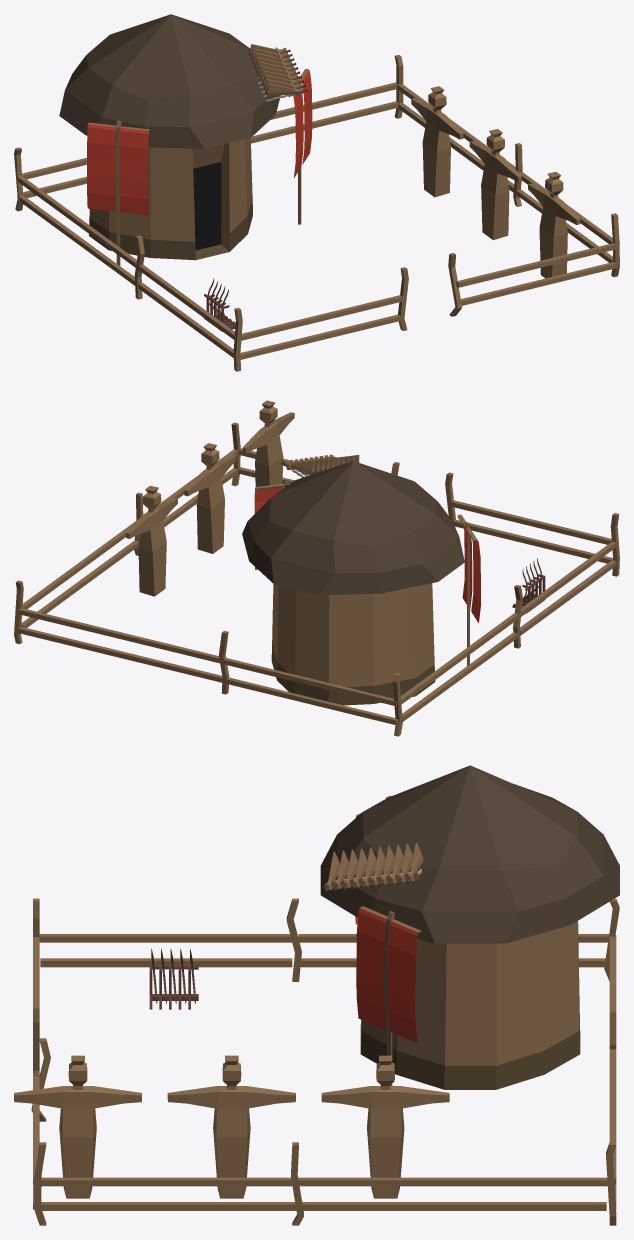
The model's file is FBX - Barracks(Human).fbx.
The picture shows the model from 3 angles, top to bottom: view 1: azimuth 30°, elevation 25°; view 2: azimuth 150°, elevation 25°; view 3: azimuth 270°, elevation 25°; orthographic projection. The views are drawn at different scales.
Visible parts, largest first — view 1: Hut, Target.R, Flag.001, Cube.005, Flag, Cube.031, Cube.030, Cube.028, Cube.029, Cube.014, Cube.013, Cube.026 (+9 smaller); view 2: Hut, Target.R, Cube.026, Cube.027, Cube.025, Cube.024, Cube.031, Cube.014, Cube.030, Cube.013, Flag.001, Cube.021 (+7 smaller); view 3: Hut, Target.R, Flag, Cube.005, Cube.020, Cube.021, Cube.019, Cube.017, Cube.018, Cube.016, Cube.004, Cube.027 (+6 smaller).
Part boxes in pixels (box(x1,y1,x2,y2)): Hut: box(59, 14, 280, 260); Target.R: box(411, 86, 580, 278); Flag.001: box(87, 124, 148, 215); Cube.005: box(249, 44, 307, 101); Flag: box(292, 70, 312, 178); Cube.031: box(238, 295, 402, 341); Cube.030: box(238, 314, 402, 359); Cube.028: box(456, 243, 617, 287); Cube.029: box(458, 262, 617, 305); Cube.014: box(18, 176, 136, 267); Cube.013: box(19, 195, 135, 285); Cube.026: box(251, 101, 398, 143); Hut: box(242, 461, 464, 705); Target.R: box(126, 400, 294, 596); Cube.026: box(18, 626, 222, 682); Cube.027: box(18, 608, 222, 663); Cube.025: box(223, 677, 398, 725); Cube.024: box(223, 658, 396, 706); Cube.031: box(451, 500, 611, 544); Cube.014: box(401, 613, 518, 704); Cube.030: box(452, 519, 612, 563); Cube.013: box(402, 632, 518, 721); Flag.001: box(462, 526, 480, 623); Cube.021: box(21, 540, 138, 627); Hut: box(320, 765, 619, 1089); Target.R: box(14, 1055, 449, 1198); Flag: box(356, 908, 418, 1042); Cube.005: box(324, 843, 423, 892); Cube.020: box(298, 1177, 607, 1186); Cube.021: box(298, 1202, 606, 1210); Cube.019: box(38, 1177, 292, 1186); Cube.017: box(40, 958, 292, 967); Cube.018: box(40, 1202, 296, 1210); Cube.016: box(39, 934, 292, 942); Cube.004: box(149, 948, 198, 1009); Cube.027: box(609, 1049, 616, 1184).
Size of the model in its own units: 928 by 479 by 946.
